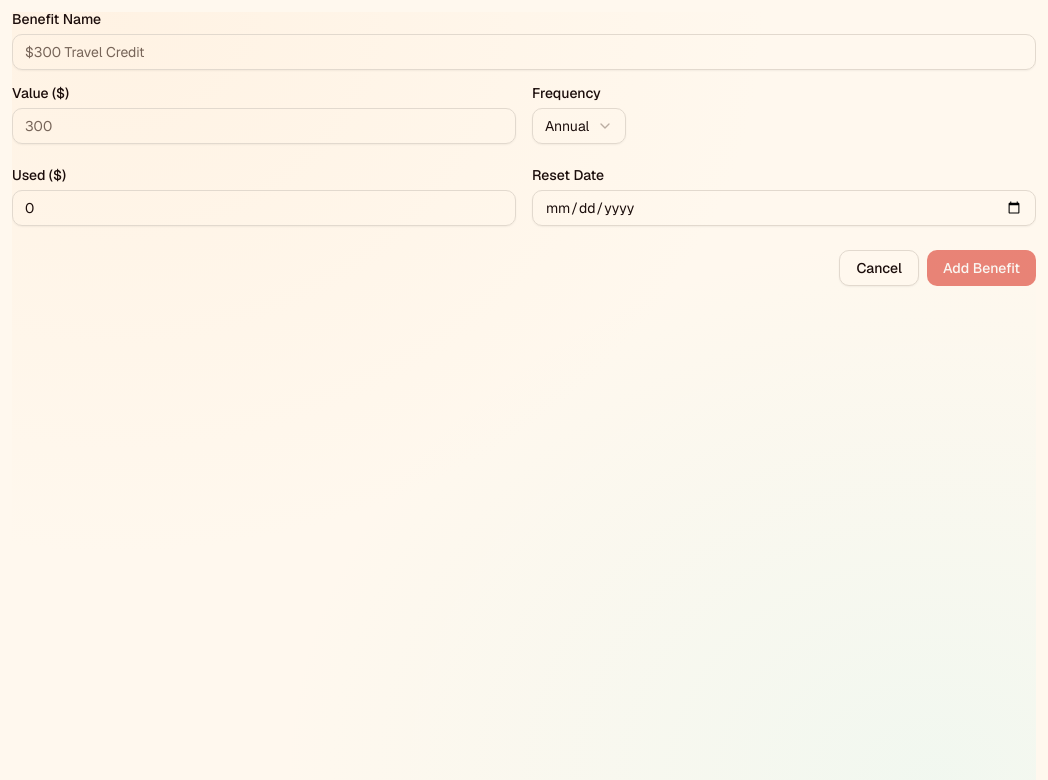
Test case: BenefitForm — loading state › shows "Saving…" and disables submit while request is in flight
This screenshot has width=1048, height=780.
Type "Lounge Access" into the field labelled "Benefit Name" at {"x": 524, "y": 52}, box [12,34,1036,70]
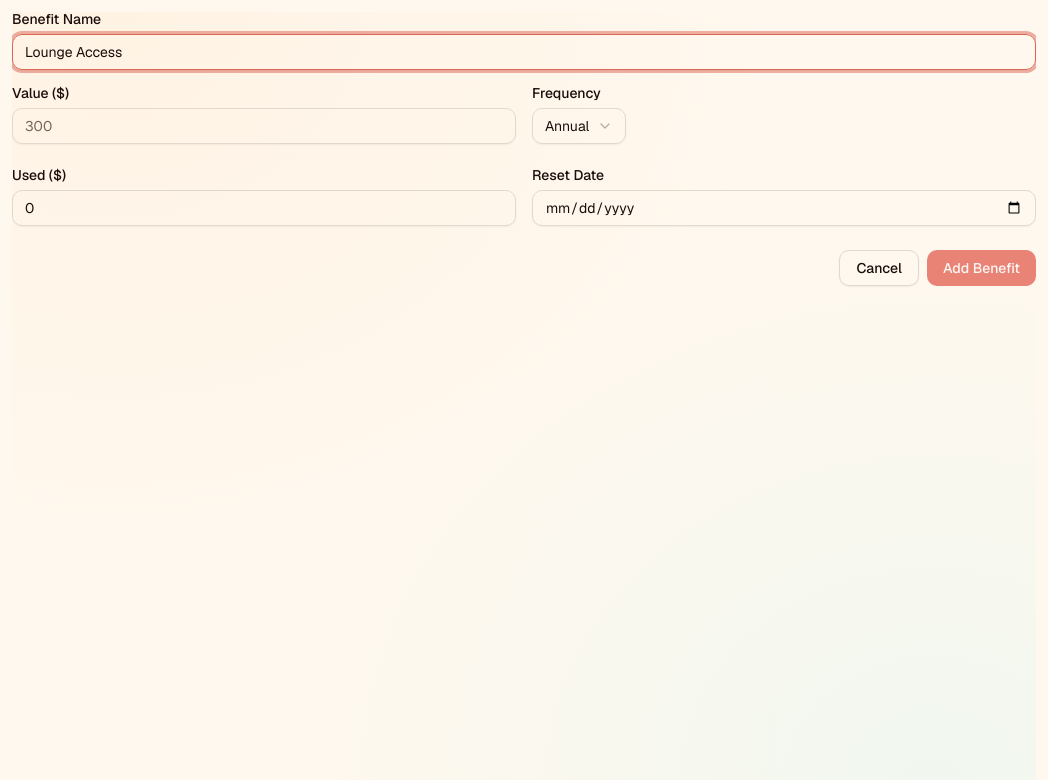
Type "50" into the number field labelled "Value ($)" at {"x": 264, "y": 126}, box [12,108,516,144]
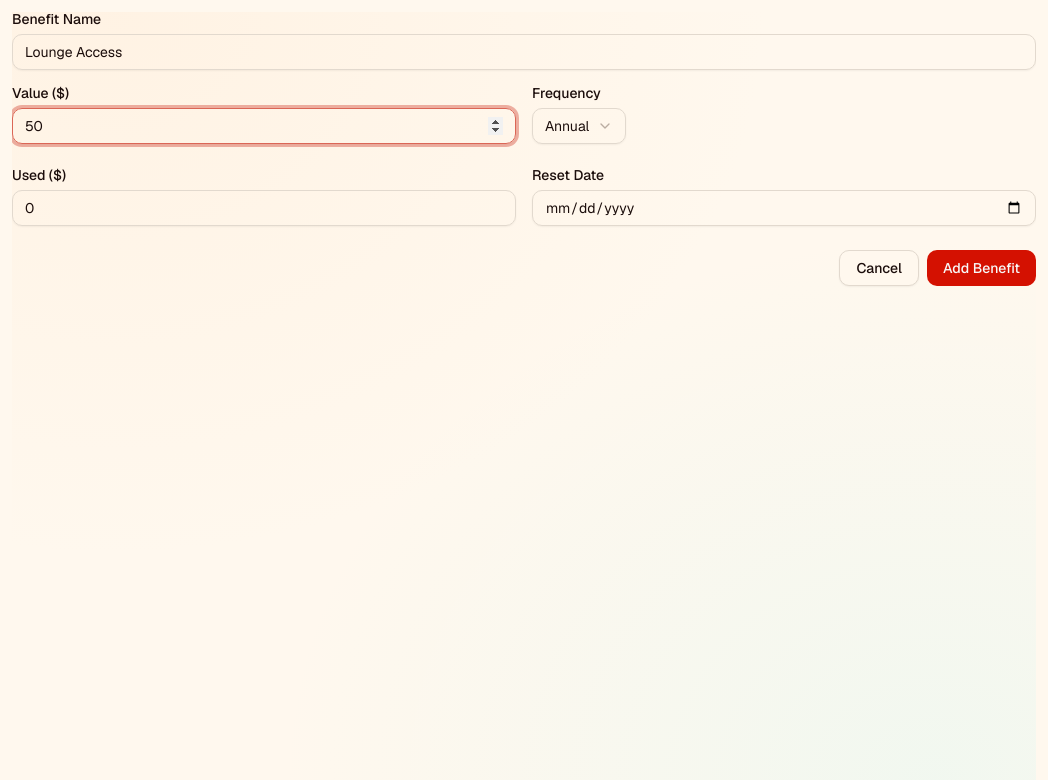
Click the button "Add Benefit" at {"x": 982, "y": 268}, box [927,250,1036,286]
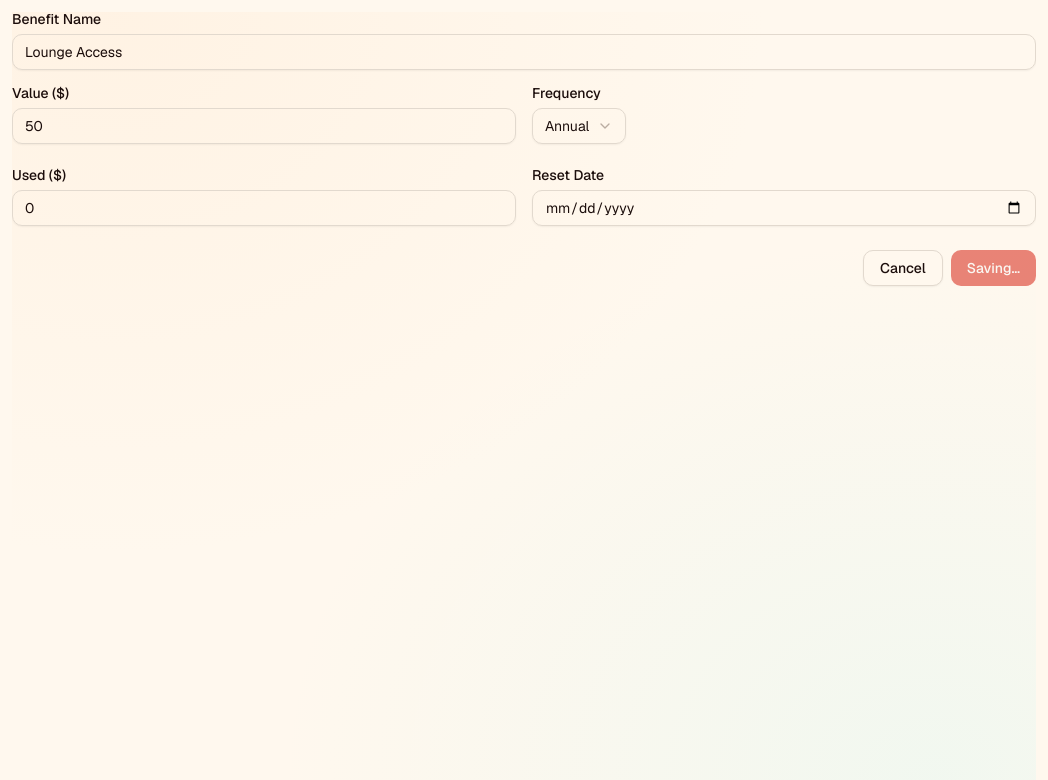
Expected: the button "Saving…" is disabled, [951,250,1036,286]
